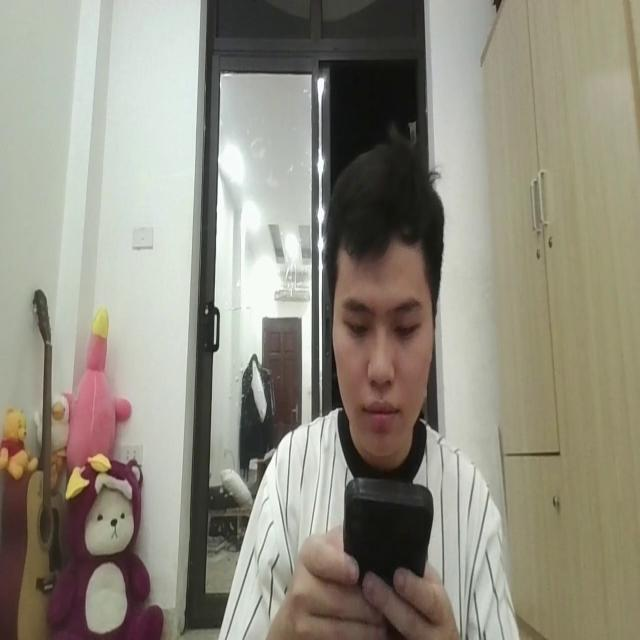phone: (341, 465, 436, 623)
student: (221, 128, 519, 640)
